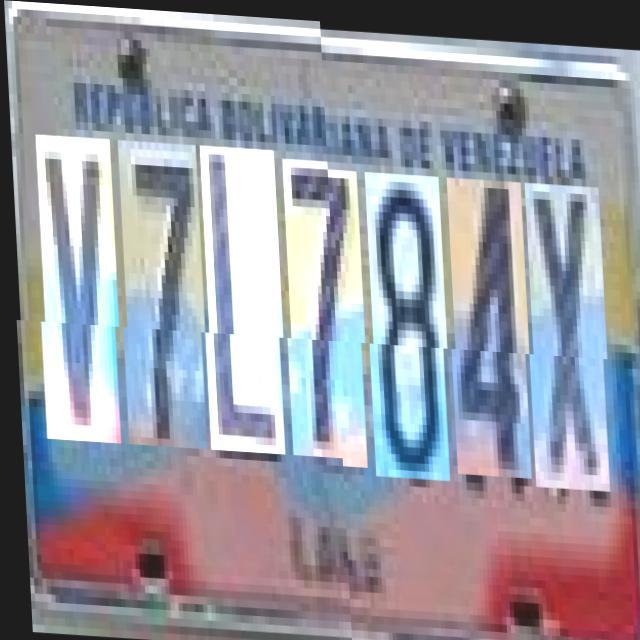4: (445, 172, 531, 472)
7: (116, 146, 206, 455), (281, 163, 367, 463)
8: (363, 167, 449, 475)
L: (198, 150, 284, 458)
V: (34, 142, 120, 450)
X: (523, 176, 609, 484)
